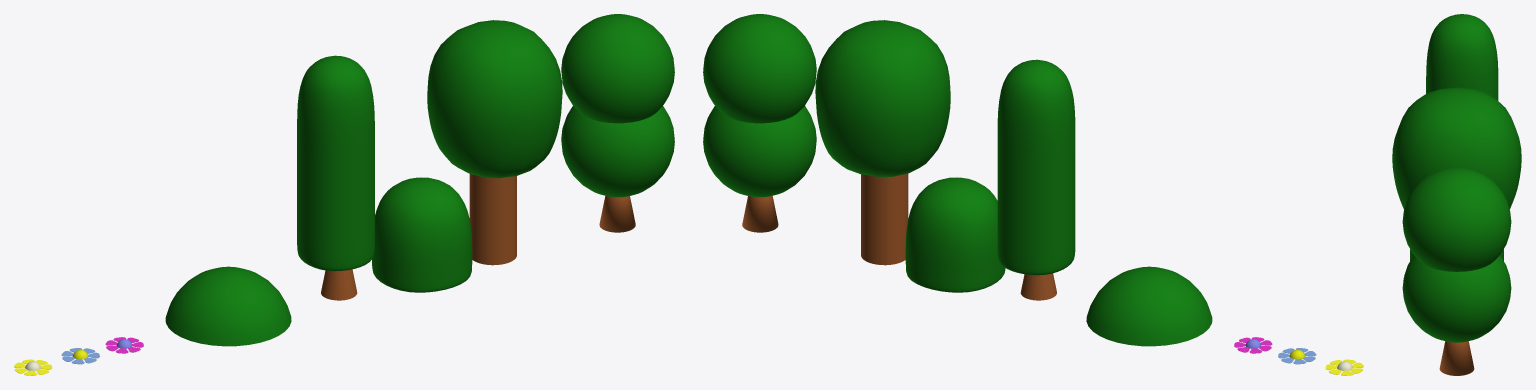
File: trees2unity.fbx
3 renders of one model, left to right at view 1: azimuth 30°, elevation 25°; view 2: azimuth 150°, elevation 25°; view 3: azimuth 270°, elevation 25°, orthographic. The views are drawn at different scales.
Visible parts, largest first — view 1: tree2, tree3, tree1, Bush2, Bush1; view 2: tree2, tree3, tree1, Bush2, Bush1; view 3: tree3, tree2, tree1.
Boxes of the visible parts, x1=… form: tree2: x1=427, y1=20, x2=562, y2=265; tree3: x1=561, y1=14, x2=674, y2=232; tree1: x1=297, y1=55, x2=374, y2=300; Bush2: x1=372, y1=177, x2=472, y2=292; Bush1: x1=165, y1=266, x2=291, y2=346; tree2: x1=815, y1=20, x2=950, y2=265; tree3: x1=703, y1=14, x2=816, y2=232; tree1: x1=997, y1=59, x2=1075, y2=300; Bush2: x1=905, y1=177, x2=1005, y2=292; Bush1: x1=1086, y1=266, x2=1212, y2=346; tree3: x1=1402, y1=167, x2=1511, y2=375; tree2: x1=1392, y1=87, x2=1521, y2=209; tree1: x1=1426, y1=14, x2=1498, y2=100.
Bounding box in the file's own units: 1854 × 632 × 334.
